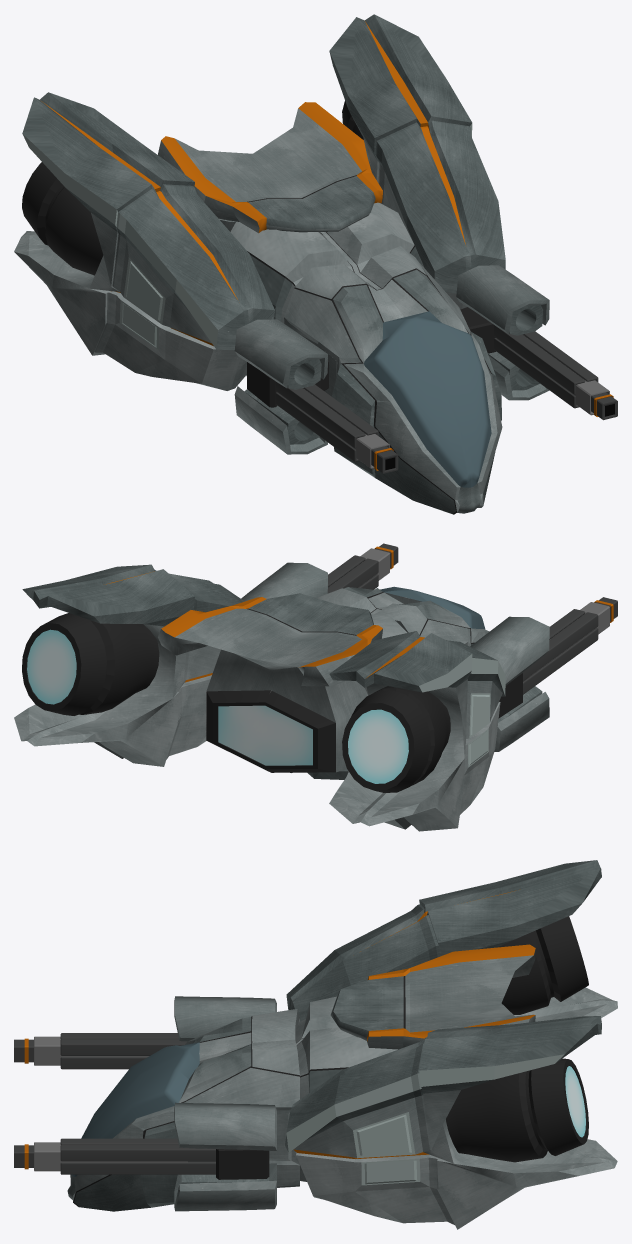
The model's file is Jiki.fbx.
The picture shows the model from 3 angles, top to bottom: view 1: azimuth 30°, elevation 25°; view 2: azimuth 150°, elevation 25°; view 3: azimuth 270°, elevation 25°; orthographic projection.
Parts seen in each view (by area): view 1: pasted__pCube3, pasted__pCube2, pCube18, pCylinder1, pCube24, pCube17, pCube14, pCube21, pCube23, pCube22, pCube25, pCube15 (+2 smaller); view 2: pasted__pCube3, pCube18, pCylinder1, pasted__pCube2, pCube24, pCube21, pCube17, pCube23, pCube14, pCube25, pCube20, pCube11; view 3: pasted__pCube3, pasted__pCube2, pCylinder1, pCube18, pCube14, pCube17, pCube22, pCube21, pCube24, pCube15, pCube11, pCube20.
Part boxes in pixels (box(x1,y1,x2,y2)): pasted__pCube3: box(14, 14, 505, 390); pasted__pCube2: box(230, 202, 502, 514); pCube18: box(158, 102, 382, 233); pCylinder1: box(22, 101, 363, 275); pCube24: box(234, 319, 327, 389); pCube17: box(456, 265, 549, 335); pCube14: box(494, 325, 598, 408); pCube21: box(275, 381, 378, 461); pCube23: box(234, 386, 327, 454); pCube22: box(488, 351, 549, 400); pCube25: box(247, 360, 328, 407); pCube15: box(460, 307, 506, 353); pasted__pCube3: box(14, 564, 505, 831); pCube18: box(158, 593, 382, 772); pCylinder1: box(22, 613, 450, 792); pasted__pCube2: box(290, 586, 489, 779); pCube24: box(470, 616, 549, 685); pCube21: box(523, 609, 598, 694); pCube17: box(241, 562, 327, 601); pCube23: box(494, 686, 549, 751); pCube14: box(327, 555, 378, 593); pCube25: box(498, 673, 522, 718); pCube20: box(523, 602, 609, 681); pCube11: box(358, 548, 389, 587); pasted__pCube3: box(285, 860, 617, 1229); pasted__pCube2: box(67, 996, 397, 1211); pCylinder1: box(446, 916, 588, 1162); pCube18: box(330, 944, 535, 1049); pCube14: box(60, 1138, 215, 1174); pCube17: box(174, 1102, 276, 1150); pCube22: box(174, 1163, 276, 1211); pCube21: box(60, 1033, 186, 1069); pCube24: box(174, 996, 276, 1041); pCube15: box(216, 1149, 269, 1179); pCube11: box(34, 1142, 187, 1171); pCube20: box(34, 1036, 149, 1065).
Bounding box in the file's own units: 1444 × 911 × 1926.
